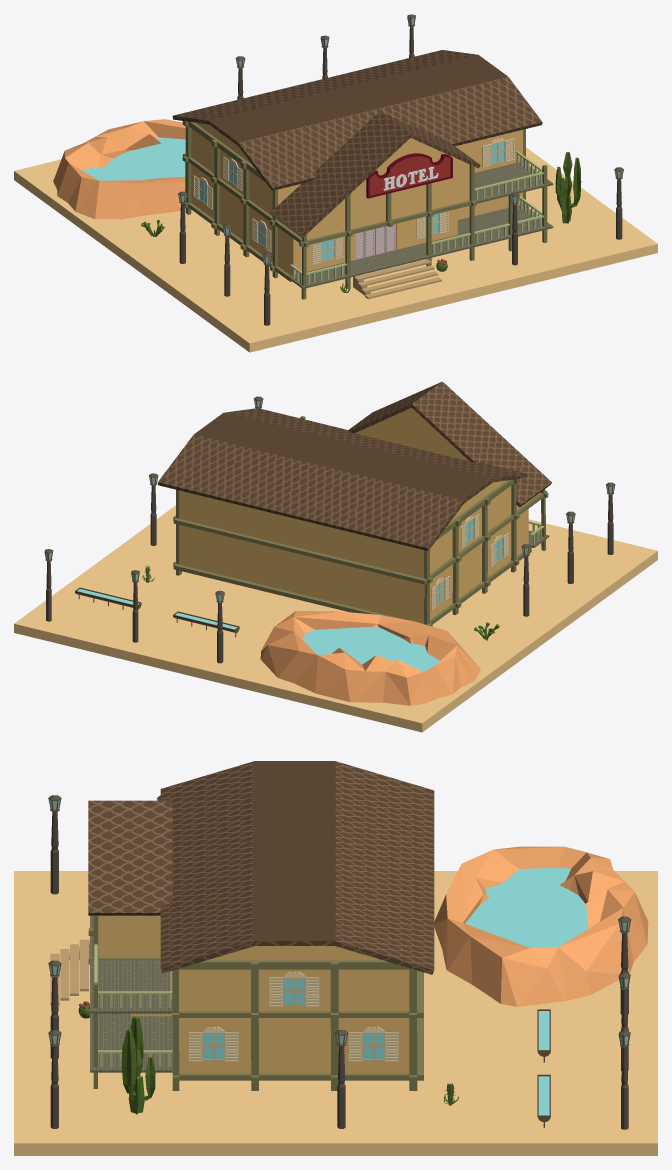
The model's file is D8_Icon_Building.fbx.
3 views of the same model, one above another, from view 1: azimuth 30°, elevation 25°; view 2: azimuth 150°, elevation 25°; view 3: azimuth 270°, elevation 25° (orthographic). The views are drawn at different scales.
Visible parts, largest first — view 1: Plane.1906, Desert_plant_005.015; view 2: Plane.1906; view 3: Plane.1906, Desert_plant_005.015.
Part boxes in pixels (bbox=[...]): Plane.1906: bbox=[14, 14, 657, 352]; Desert_plant_005.015: bbox=[141, 152, 581, 292]; Plane.1906: bbox=[14, 381, 657, 732]; Plane.1906: bbox=[14, 761, 657, 1155]; Desert_plant_005.015: bbox=[78, 1001, 458, 1114].
Bounding box in the file's own units: 4000 × 1428 × 4000.
Materials: 10 (7 with a texture image).
